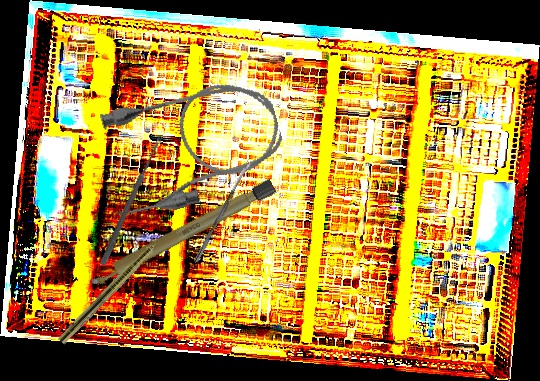Cannula: (89, 67, 294, 226)
Handpiece: (56, 223, 177, 347)
Scalpel Handle: (86, 178, 277, 290)
Surgical Spoon: (99, 134, 164, 267), (193, 159, 253, 264)
